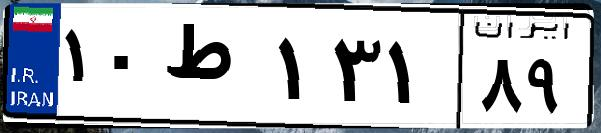0: (110, 28, 158, 98)
1: (270, 28, 330, 110), (385, 28, 445, 110), (57, 26, 110, 100)
3: (330, 28, 385, 110)
8: (475, 38, 525, 113)
9: (525, 38, 570, 115)
ط: (158, 20, 270, 120)
